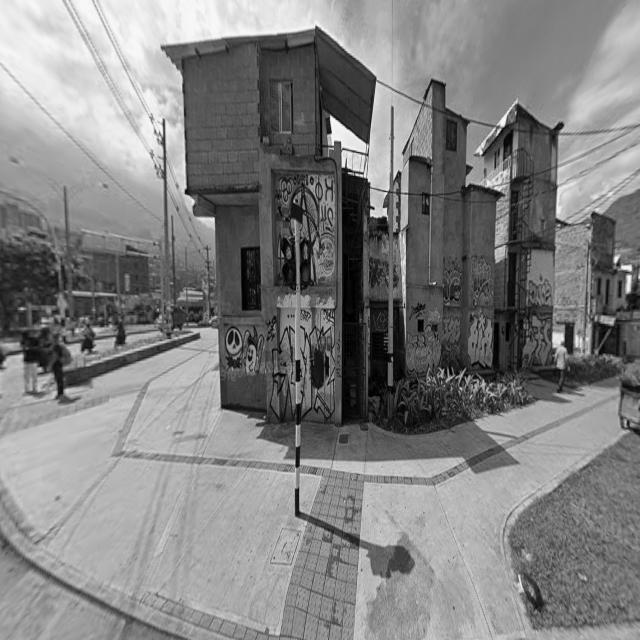Fachada: (162, 26, 376, 424), (365, 80, 498, 378), (474, 100, 564, 368), (554, 212, 640, 355)
Poste: (160, 118, 170, 315), (171, 216, 177, 307), (64, 185, 71, 262), (205, 245, 212, 316), (66, 269, 75, 317)
